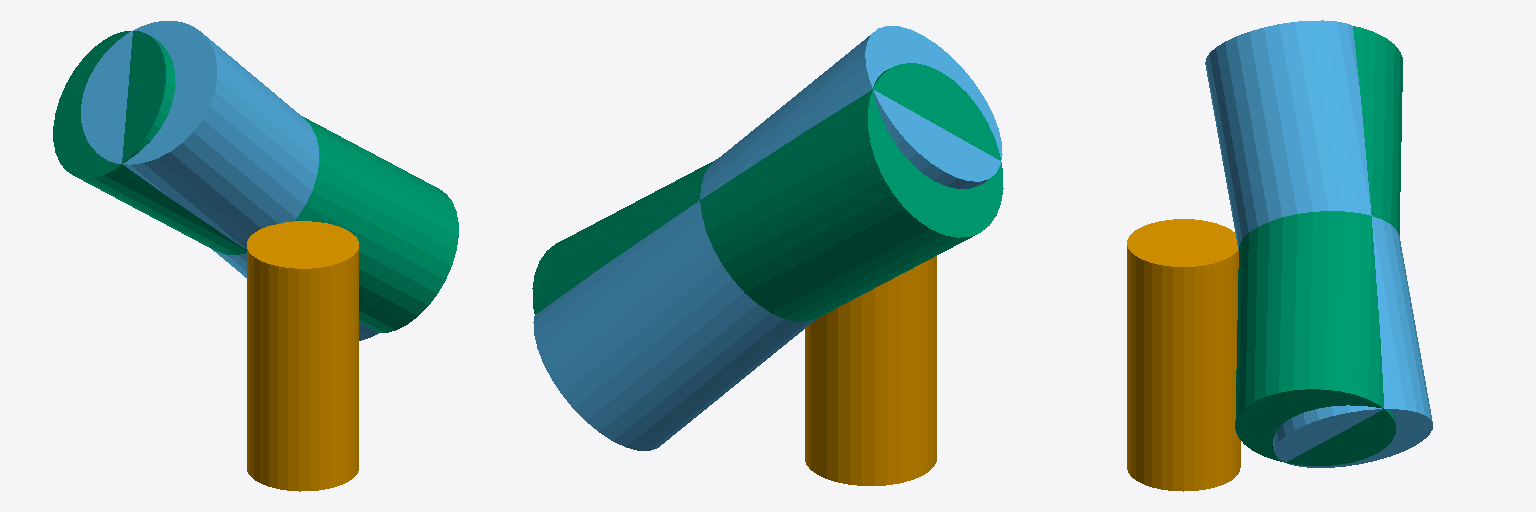
The robot description file, URDF, robot "pepe":
<?xml version="1.0"?><robot name="pepe">
	<link name="0">
		<visual>
			<geometry>
				<cylinder length="1.3303240535078822" radius="0.3058566576238244"/>
			</geometry>
		</visual>
		<collision>
			<geometry>
				<cylinder length="1.3303240535078822" radius="0.3058566576238244"/>
			</geometry>
		</collision>
		<inertial>
			<mass value="0.3909697826612453"/>
			<inertia ixx="0.03" iyy="0.03" izz="0.03" ixy="0" ixz="0" iyx="0"/>
		</inertial>
	</link>
	<link name="11">
		<visual>
			<geometry>
				<cylinder length="2.2455110286492643" radius="0.43266176928651967"/>
			</geometry>
		</visual>
		<collision>
			<geometry>
				<cylinder length="2.2455110286492643" radius="0.43266176928651967"/>
			</geometry>
		</collision>
		<inertial>
			<mass value="1.320572073604105"/>
			<inertia ixx="0.03" iyy="0.03" izz="0.03" ixy="0" ixz="0" iyx="0"/>
		</inertial>
	</link>
	<link name="12">
		<visual>
			<geometry>
				<cylinder length="2.2455110286492643" radius="0.43266176928651967"/>
			</geometry>
		</visual>
		<collision>
			<geometry>
				<cylinder length="2.2455110286492643" radius="0.43266176928651967"/>
			</geometry>
		</collision>
		<inertial>
			<mass value="1.320572073604105"/>
			<inertia ixx="0.03" iyy="0.03" izz="0.03" ixy="0" ixz="0" iyx="0"/>
		</inertial>
	</link>
	<joint name="11_to_0" type="revolute">
		<parent link="0"/>
		<child link="11"/>
		<axis xyz="0 1 0"/>
		<limit effort="1" upper="-3.1415" lower="3.1415" velocity="1"/>
		<origin rpy="12.079475270275633 5.634092577633196 0.9553492627158846" xyz="0.12710202494398815 0.7279605242954719 0.7173072026098758"/>
	</joint>
	<joint name="12_to_0" type="revolute">
		<parent link="0"/>
		<child link="12"/>
		<axis xyz="0 1 0"/>
		<limit effort="1" upper="-3.1415" lower="3.1415" velocity="1"/>
		<origin rpy="18.11921290541345 5.634092577633196 0.9553492627158846" xyz="0.12710202494398815 0.7279605242954719 0.7173072026098758"/>
	</joint>
</robot>

--- Facts derived from the render (not from the file) ---
The picture shows the robot from 3 angles, left to right: view 1: azimuth 30°, elevation 25°; view 2: azimuth 150°, elevation 25°; view 3: azimuth 270°, elevation 25°; orthographic projection.
Model pepe with 3 links and 2 joints (2 revolute), rooted at 0, posed every joint at zero.
Links seen in each view (by area): view 1: 12, 11, 0; view 2: 11, 12, 0; view 3: 11, 12, 0.
Link boxes in pixels (x1,y1,x2,y2): 12: (53, 31, 458, 332); 11: (81, 21, 378, 340); 0: (247, 221, 358, 491); 11: (533, 26, 1002, 450); 12: (532, 63, 1003, 321); 0: (805, 256, 936, 485); 11: (1205, 20, 1432, 467); 12: (1235, 26, 1402, 465); 0: (1127, 219, 1240, 491).
Size in the robot's own frame: 2.32 by 1.65 by 2.48 metres.
Geometry: primitives only (box / cylinder / sphere), no mesh files.
